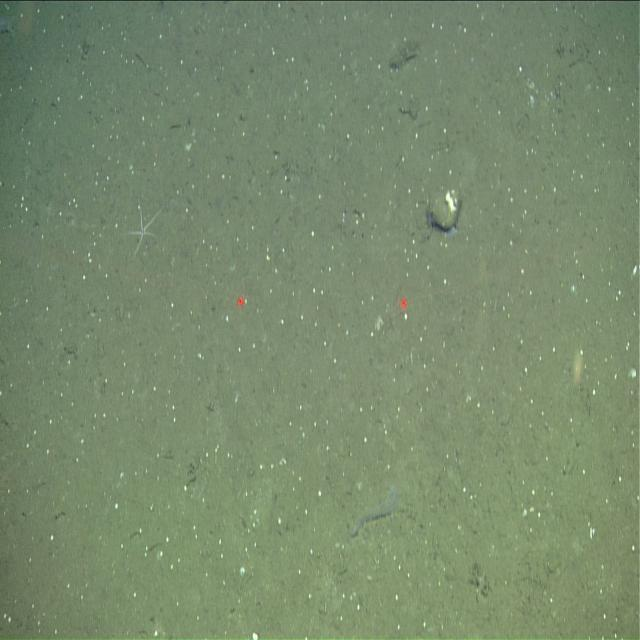Brittle Star: (121, 194, 166, 262)
Not Brittle Star: (348, 480, 401, 542), (426, 182, 463, 240), (1, 8, 20, 42)
